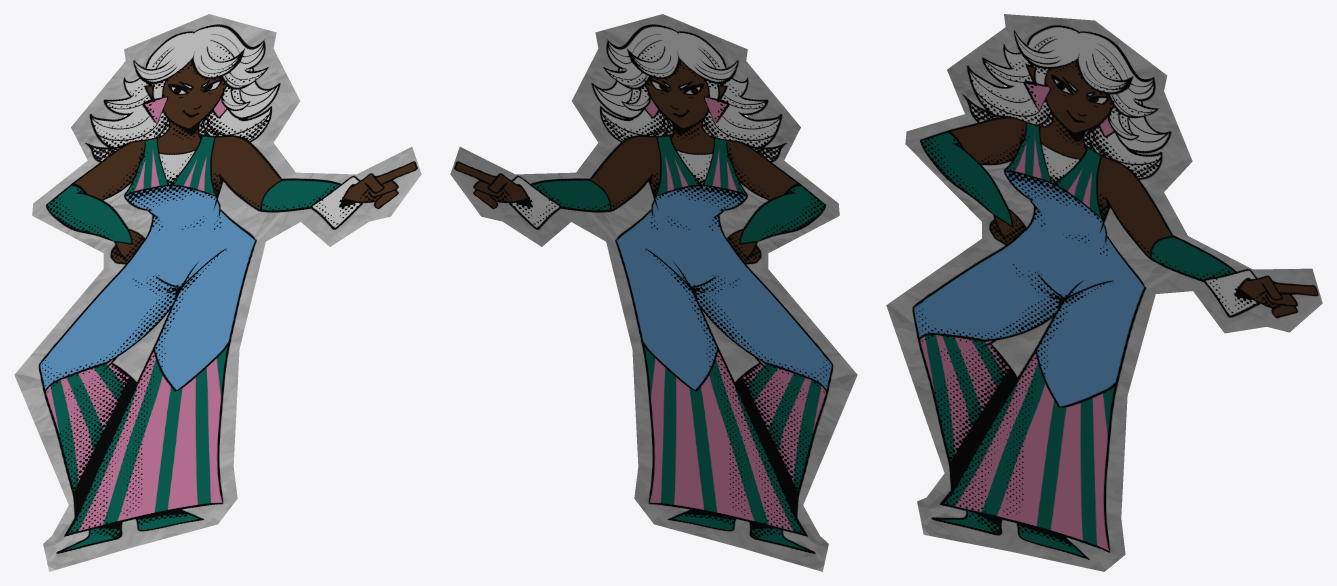
The model's file is Crowd Meshes_04 1.fbx.
3 views of the same model, side by side, from view 1: azimuth 30°, elevation 25°; view 2: azimuth 150°, elevation 25°; view 3: azimuth 330°, elevation 25° (orthographic). The views are drawn at different scales.
Parts seen in each view (by area): view 1: Plane.003; view 2: Plane.003; view 3: Plane.003.
Boxes of the visible parts, x1,y1,x2,y2 form: Plane.003: (14, 14, 421, 571); Plane.003: (450, 14, 857, 571); Plane.003: (886, 14, 1322, 571).
Bounding box in the file's own units: 1.45 × 1.77 × 1.34e-07.
